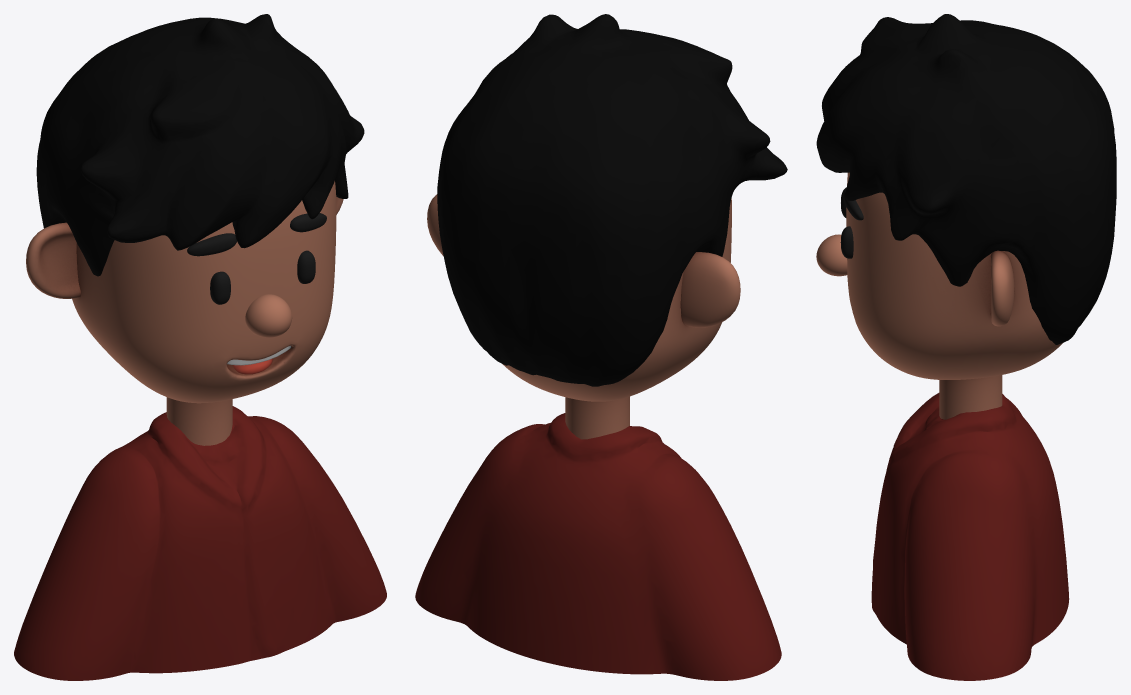
3 renders of one model, left to right at view 1: azimuth 30°, elevation 25°; view 2: azimuth 150°, elevation 25°; view 3: azimuth 270°, elevation 25°, orthographic. The views are drawn at different scales.
Parts seen in each view (by area): view 1: cloth, hair, face; view 2: hair, cloth, face; view 3: hair, cloth, face.
Part boxes in pixels (x1=…): cloth: x1=14, y1=406, x2=386, y2=680; hair: x1=36, y1=14, x2=364, y2=276; face: x1=26, y1=181, x2=343, y2=445; hair: x1=437, y1=14, x2=787, y2=386; cloth: x1=415, y1=413, x2=781, y2=680; face: x1=427, y1=194, x2=740, y2=439; hair: x1=816, y1=14, x2=1116, y2=344; cloth: x1=871, y1=393, x2=1069, y2=680; face: x1=816, y1=172, x2=1062, y2=419.
Bounding box in the file's own units: 3.13 × 5.15 × 2.4.
3 materials, 3 textured.
